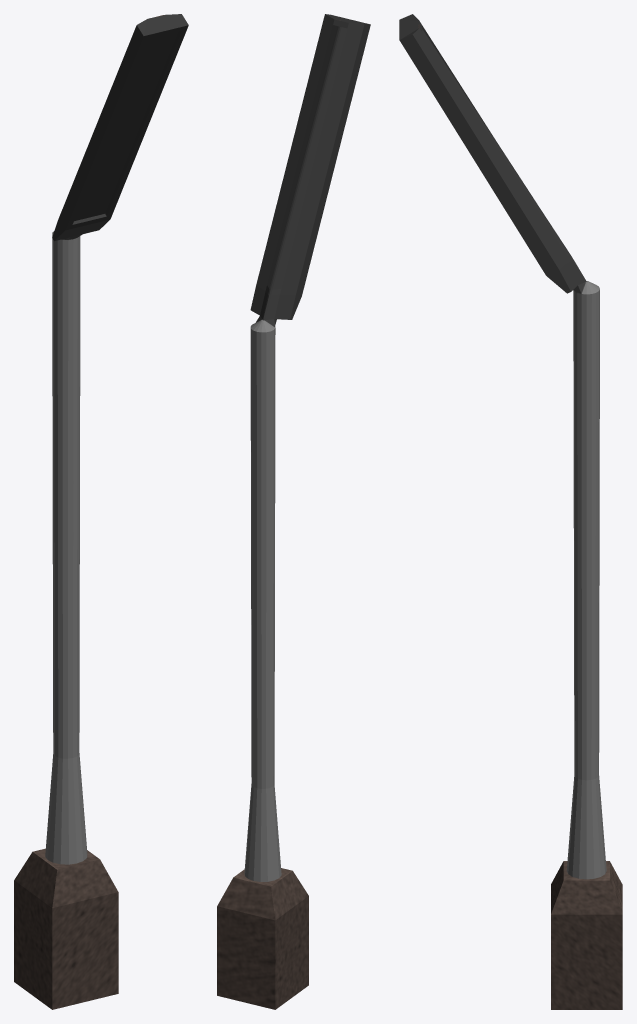
File: Lamp.fbx
The picture shows the model from 3 angles, left to right: view 1: azimuth 30°, elevation 25°; view 2: azimuth 150°, elevation 25°; view 3: azimuth 270°, elevation 25°; orthographic projection. The views are drawn at different scales.
Visible parts, largest first — view 1: Cylinder; view 2: Cylinder; view 3: Cylinder.
Part boxes in pixels (x1=…): Cylinder: x1=14, y1=14, x2=188, y2=1009; Cylinder: x1=217, y1=14, x2=370, y2=1009; Cylinder: x1=399, y1=14, x2=622, y2=1009.
Size of the model in its own units: 30.93 by 463 by 96.37.
